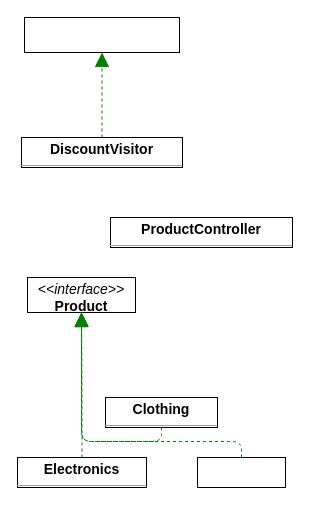
Image size: 310x505. Some labels were removed from this diagram. Here are the shapes that lost their labels. From the top down, the centre of each, then its label:
At point (102, 34): "<<interface>> ProductVisitor".
At point (241, 472): "Food".
